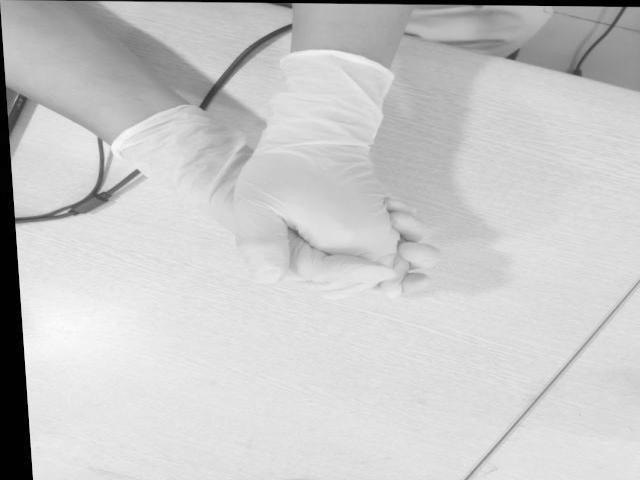gloved: (182, 152, 444, 300), (239, 122, 430, 294)
